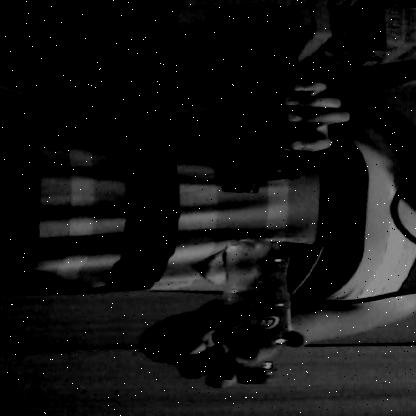Plastic Bottle: (206, 229, 309, 392)
